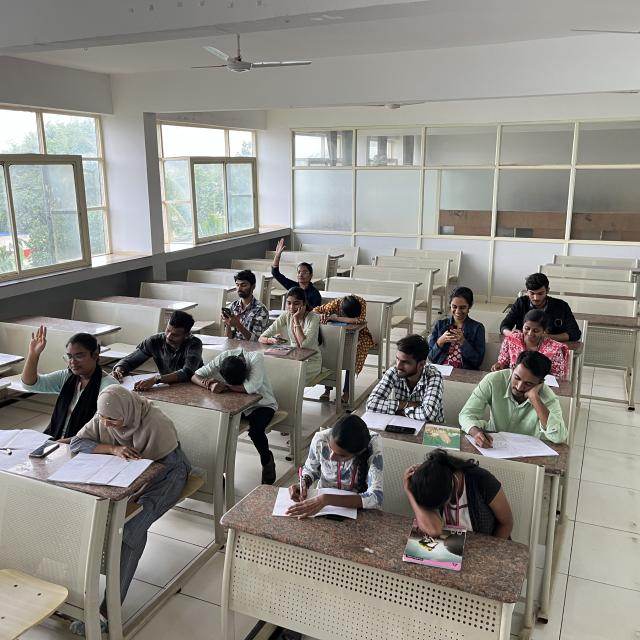Hand Rising: (15, 318, 106, 432), (267, 230, 332, 302)
Reading: (75, 379, 186, 476)
Sleeping: (393, 441, 521, 542), (188, 338, 279, 404), (318, 284, 379, 344)
Using Phone: (422, 273, 494, 358), (217, 264, 274, 338), (263, 288, 321, 358)
Writing: (279, 408, 386, 515), (462, 351, 567, 452), (101, 305, 201, 391)
